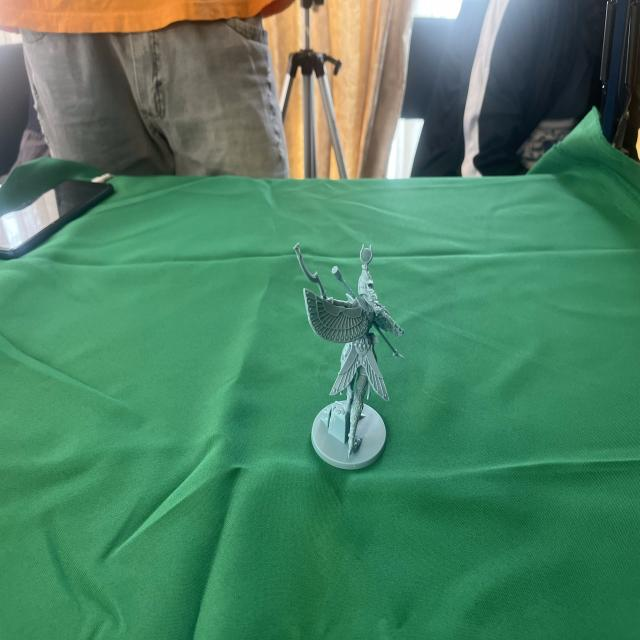isis: (280, 220, 416, 480)
